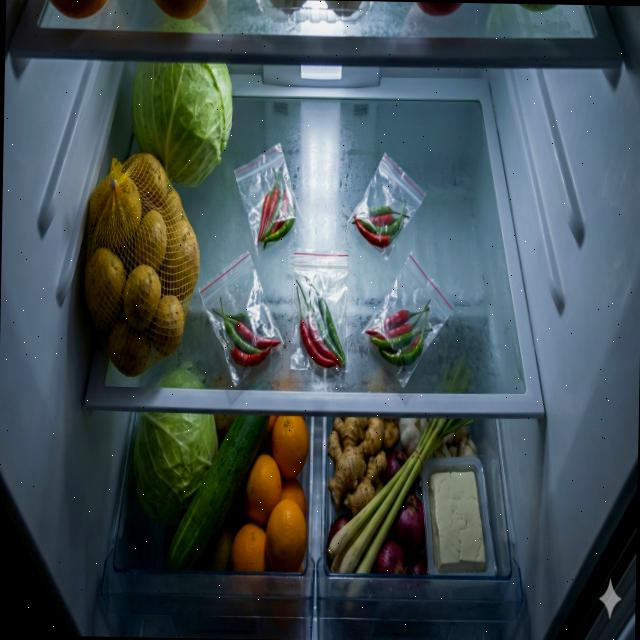cabbage: (130, 60, 233, 190), (132, 411, 218, 527)
chili: (210, 296, 282, 367), (294, 274, 348, 368), (364, 296, 434, 368), (256, 167, 296, 250), (350, 198, 409, 250)
cucumber: (166, 412, 270, 572)
garlic: (398, 417, 428, 458)
ginger: (326, 416, 398, 518)
lemongrass: (326, 414, 474, 576)
onion: (376, 492, 428, 574)
orange: (230, 414, 308, 573)
potato: (83, 151, 202, 378)
tofu: (426, 470, 487, 573)
